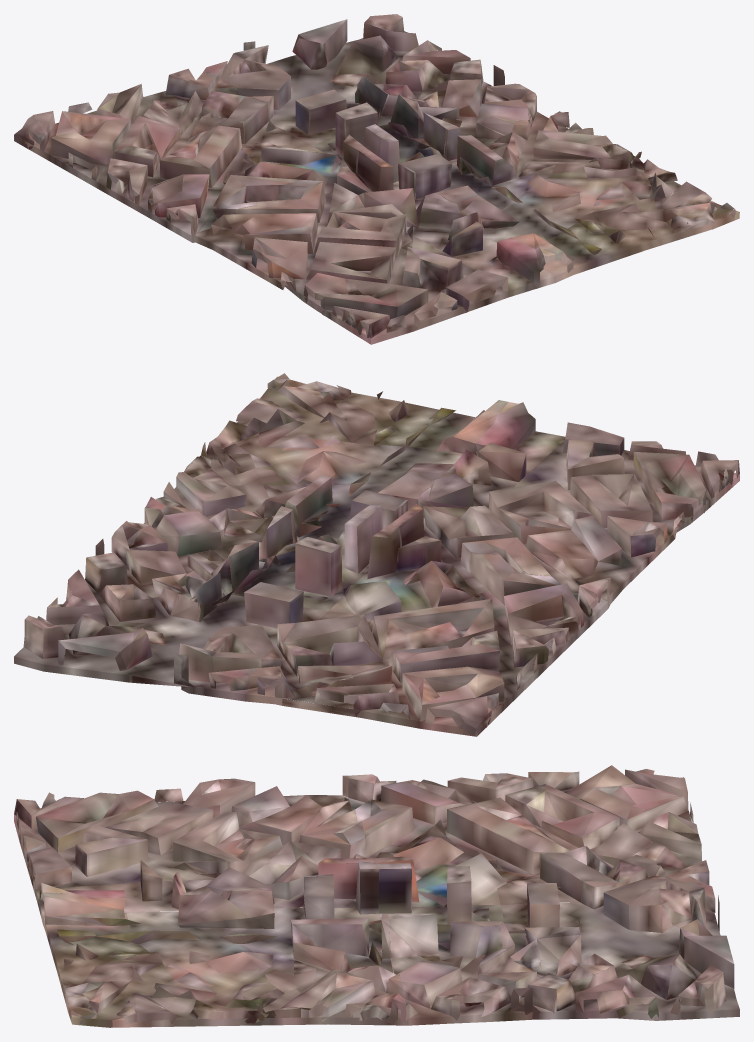
3 views of the same model, one above another, from view 1: azimuth 30°, elevation 25°; view 2: azimuth 150°, elevation 25°; view 3: azimuth 270°, elevation 25° (orthographic). The views are drawn at different scales.
Parts seen in each view (by area): view 1: Mesh_0; view 2: Mesh_0; view 3: Mesh_0.
Part boxes in pixels (box(x1,y1,x2,y2)): Mesh_0: box(14, 14, 739, 344); Mesh_0: box(14, 373, 739, 736); Mesh_0: box(14, 765, 739, 1027).
Bounding box in the file's own units: 532 × 69.03 × 659.
2 materials, 2 textured.
